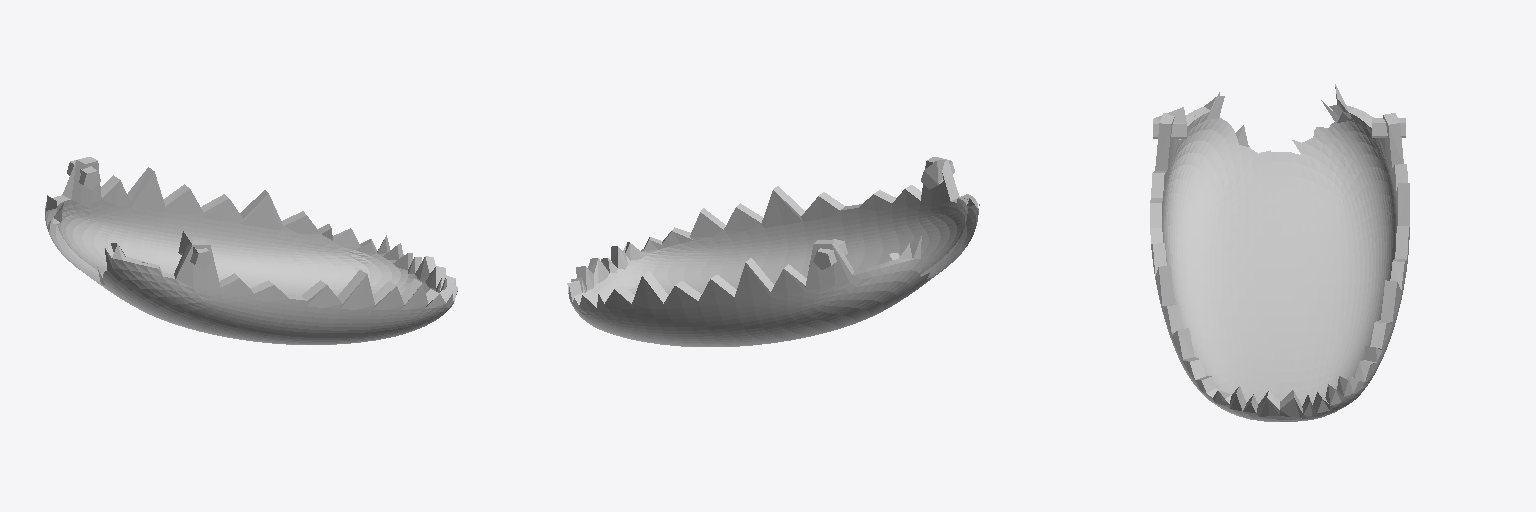
File: mandibula.obj
3 renders of one model, left to right at view 1: azimuth 30°, elevation 25°; view 2: azimuth 150°, elevation 25°; view 3: azimuth 270°, elevation 25°, orthographic.
Visible parts, largest first — view 1: mandibula; view 2: mandibula; view 3: mandibula.
Boxes of the visible parts, box(x1,y1,x2,y2) form: mandibula: box(45, 157, 457, 344); mandibula: box(567, 157, 979, 346); mandibula: box(1150, 84, 1409, 421).
Bounding box in the file's own units: 2.64 × 1.23 × 1.61.